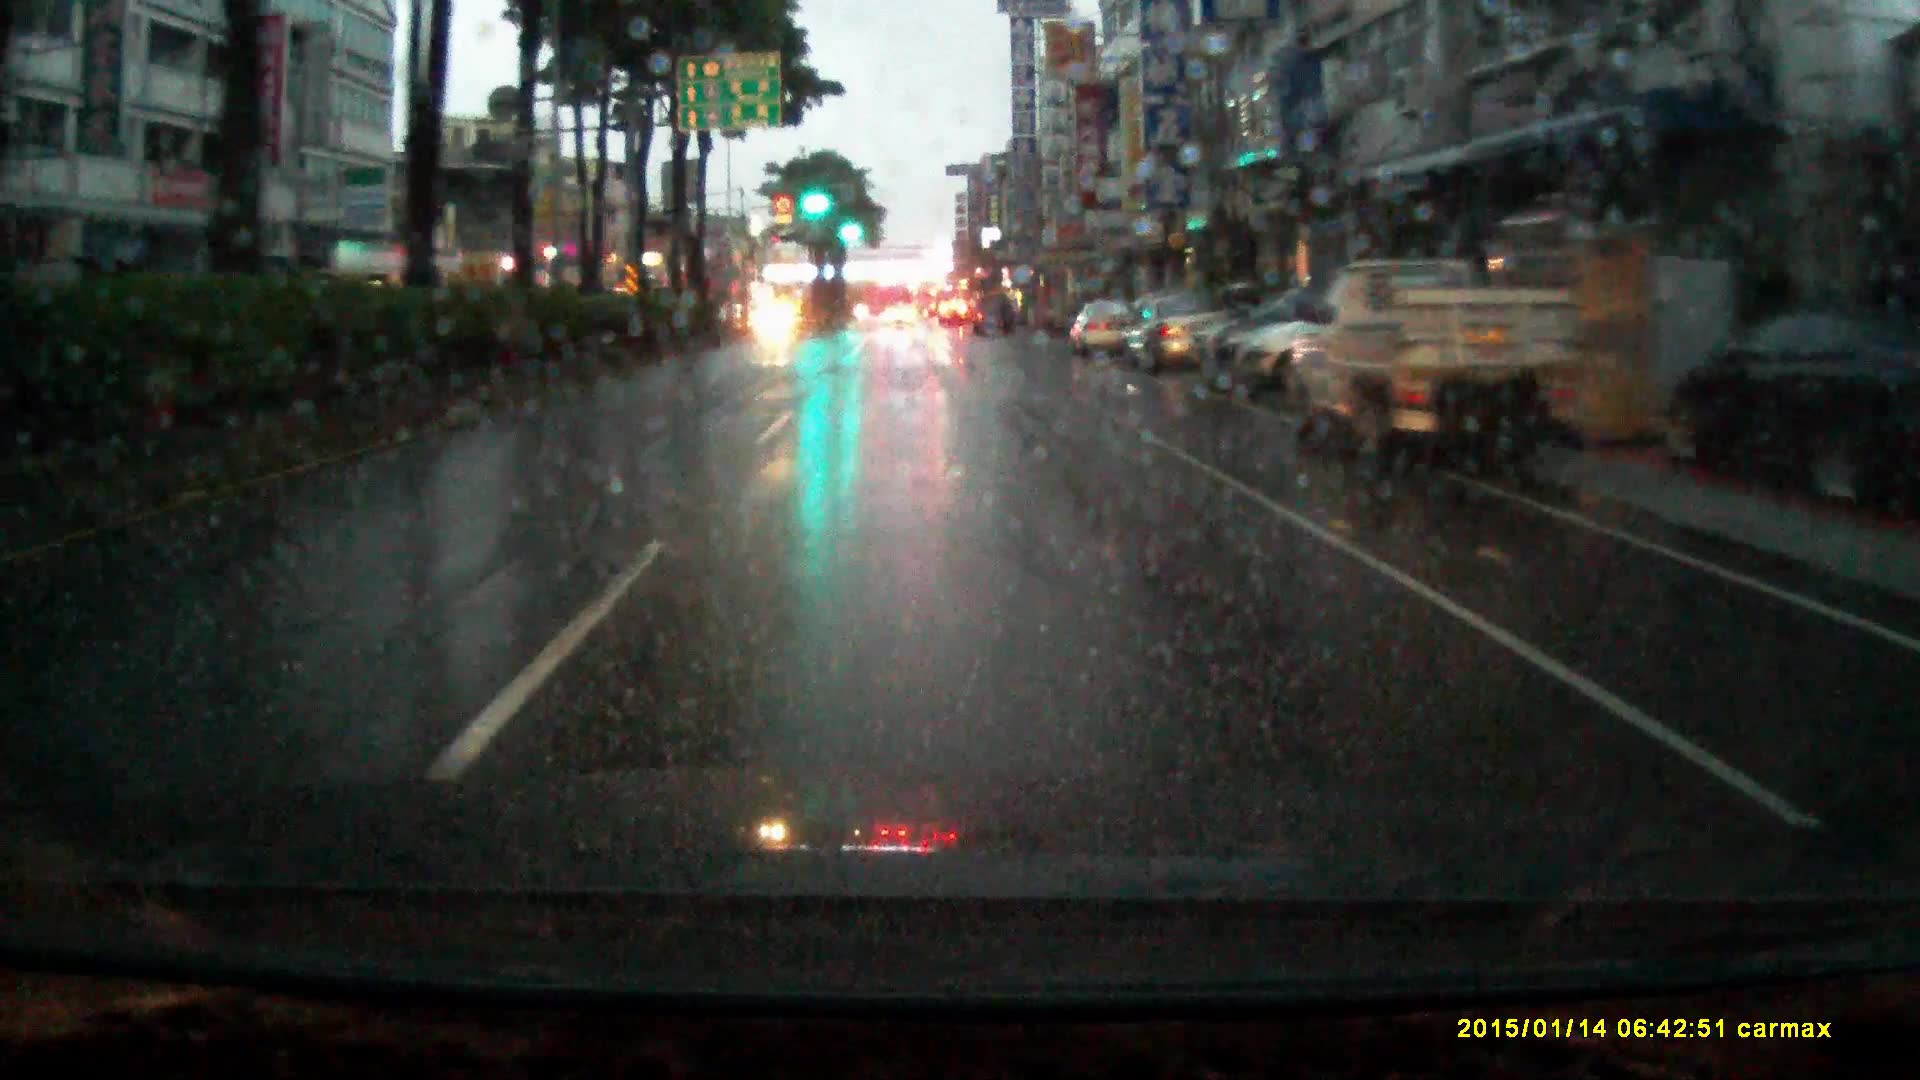vehicle: (1288, 260, 1582, 471), (1646, 303, 1913, 501), (1124, 293, 1244, 378), (1073, 302, 1133, 361), (752, 301, 804, 342), (972, 295, 1019, 338), (913, 284, 938, 319), (940, 301, 969, 327), (886, 305, 918, 324)
